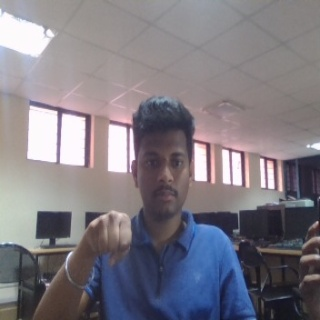Yes: (81, 211, 138, 270)
